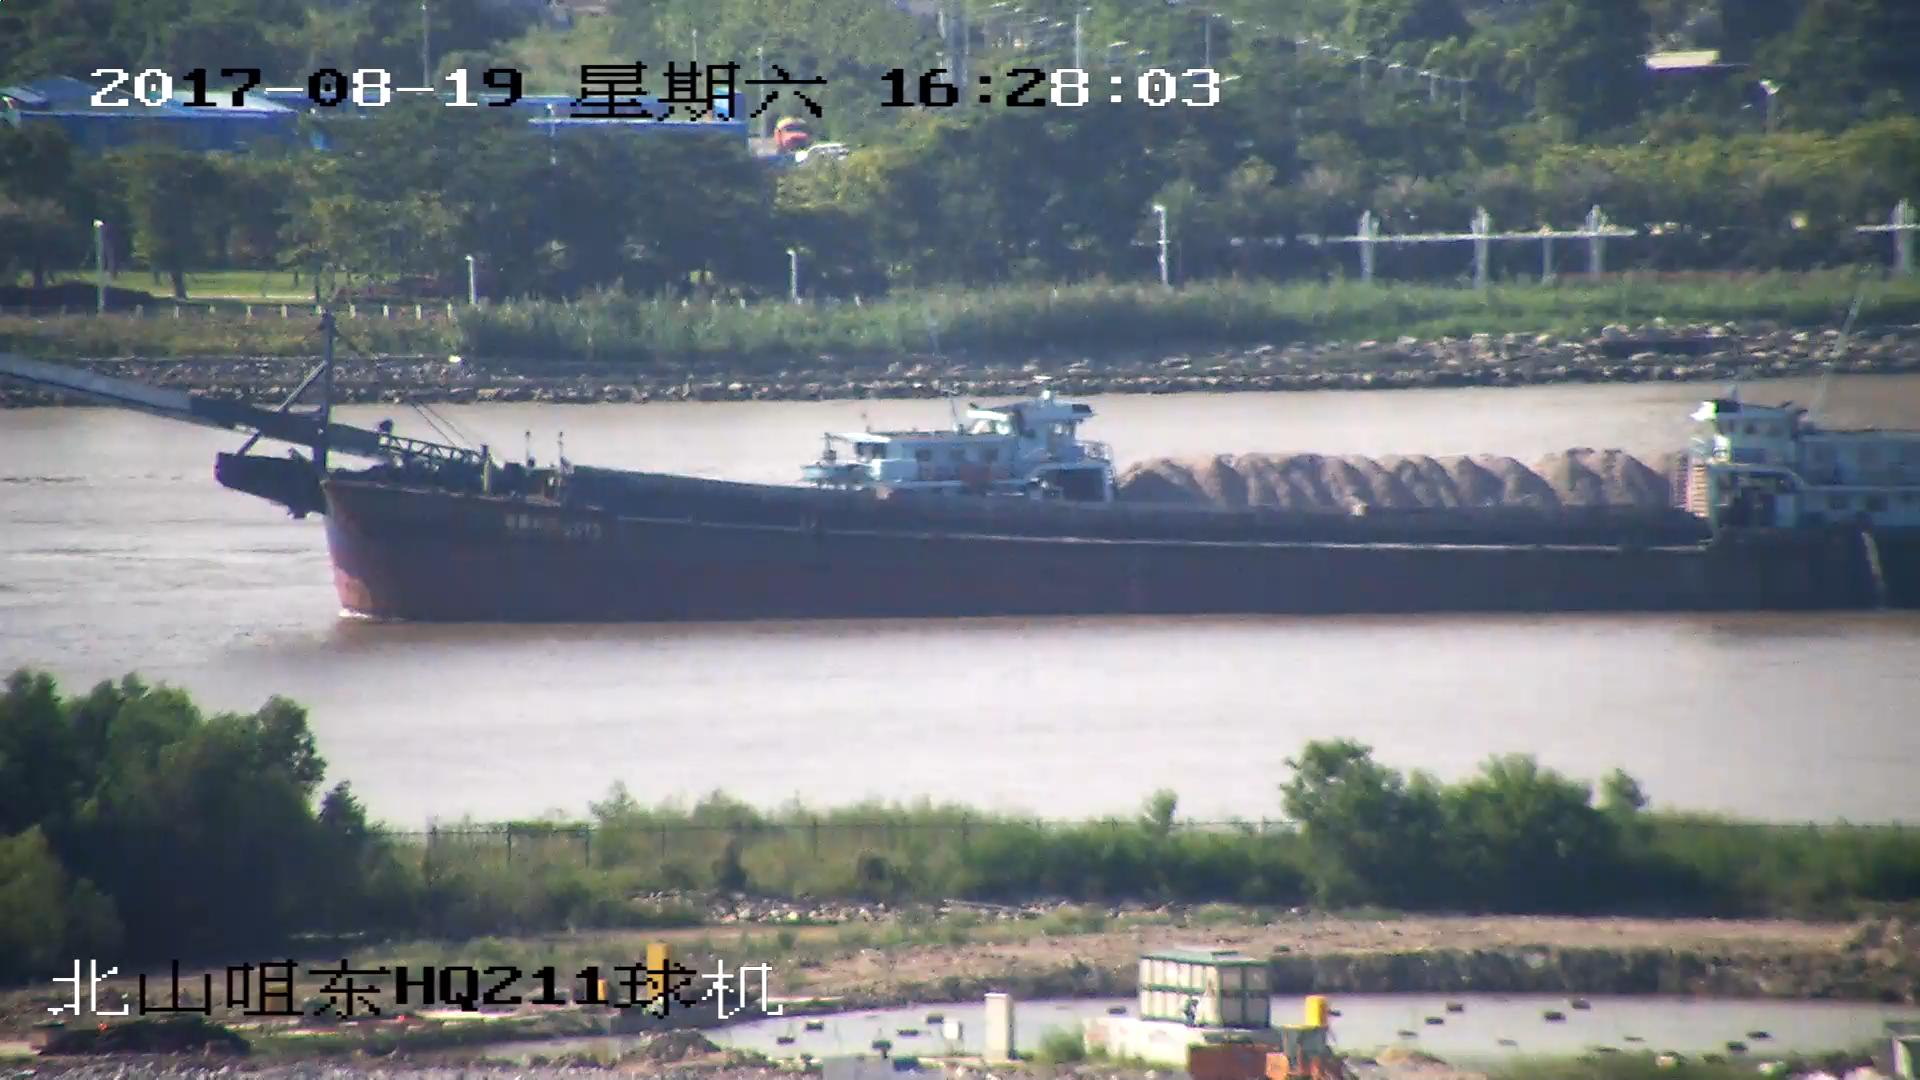bulk cargo carrier: (1, 317, 1920, 615)
ore carrier: (786, 404, 1712, 523)
